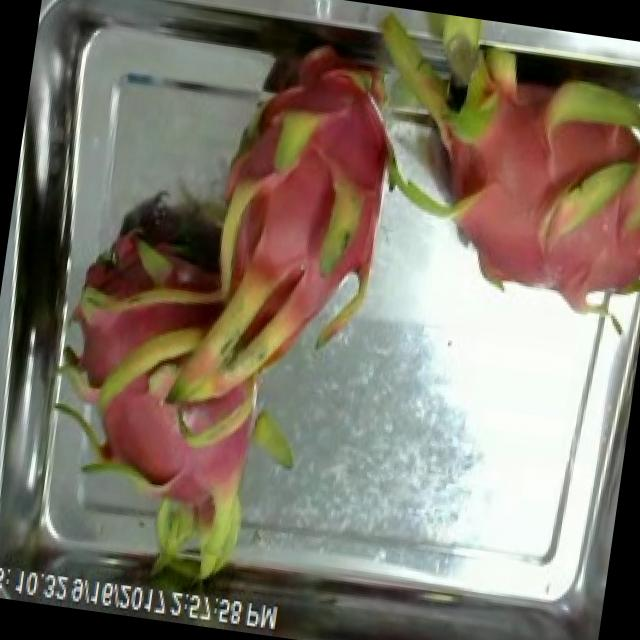Fruit: (72, 326, 216, 509), (527, 129, 640, 329)
